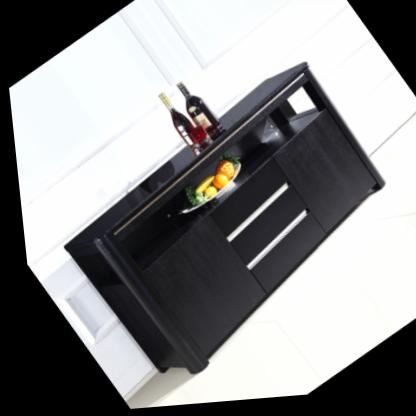Cupboard: (59, 67, 382, 378)
